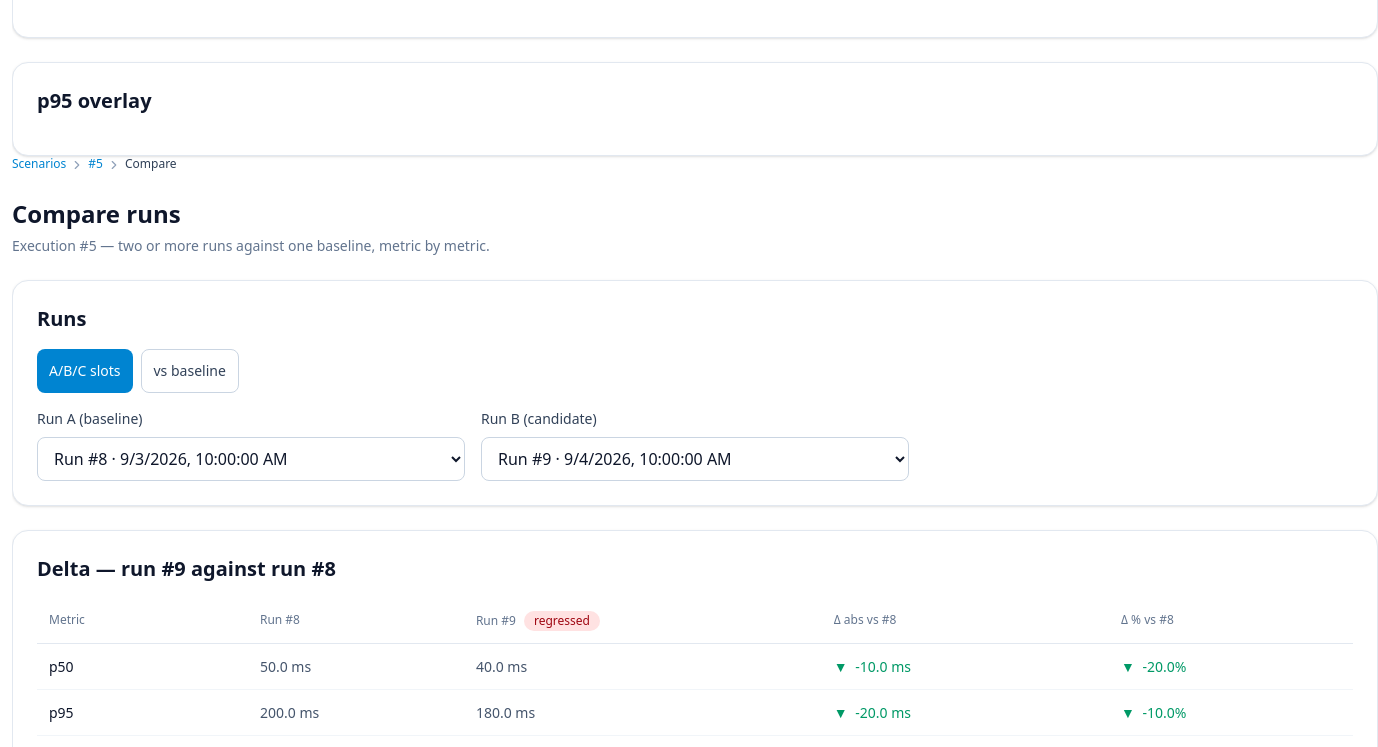
RunCompare vs-baseline mode (phase 75) › toggles to the run list and radios the baseline, carrying the selection over
(page scrolled)
Check: the dropdown with test id "select-run-a" is shown, box [37,437,465,481]
Click the button with test id "mode-vs-baseline" at (190, 371), box [140,349,239,393]
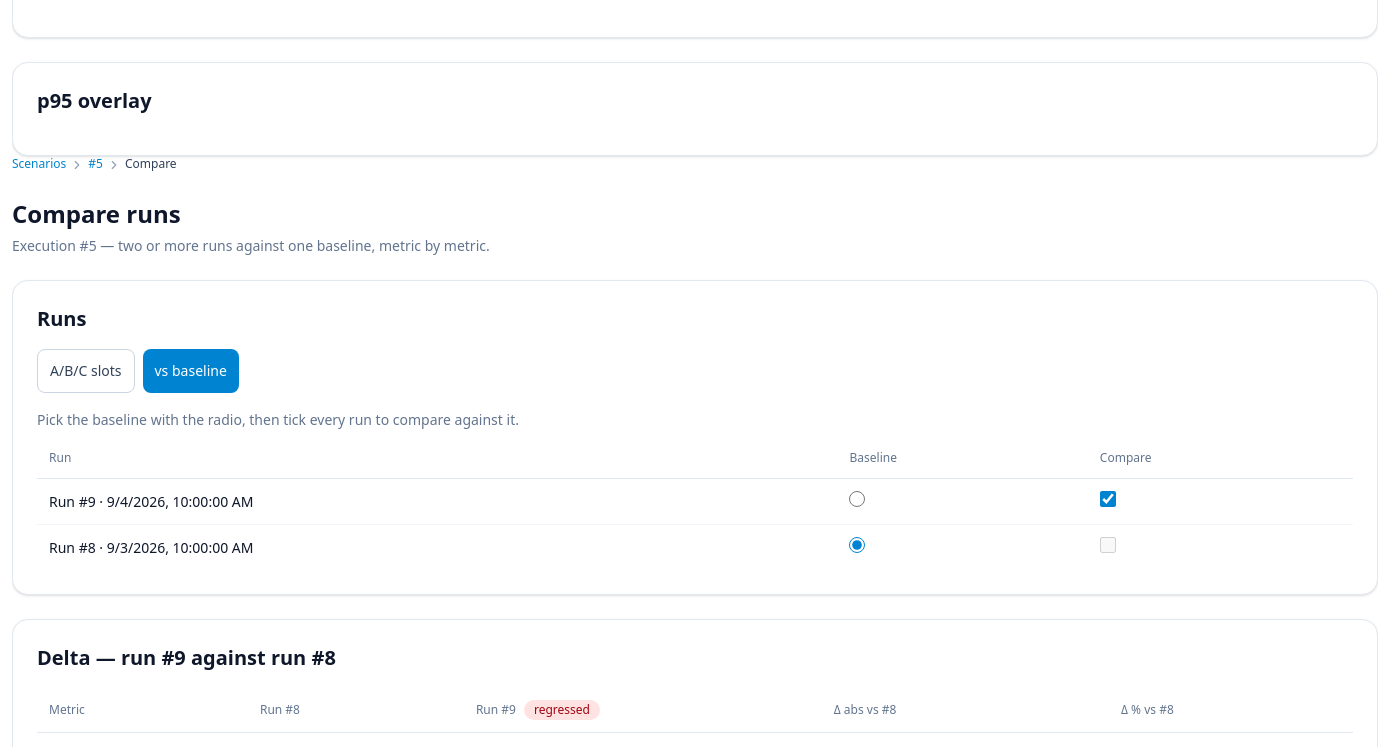
Check: the element with test id "baseline-run-list" is shown, box [37,409,1353,570]
Check: the radio button with test id "baseline-radio-8" is checked, box [850,537,866,553]
Check: the checkbox with test id "compare-check-9" is checked, box [1100,491,1116,507]
Click the radio button with test id "baseline-radio-9" at (858, 499), box [850,491,866,507]
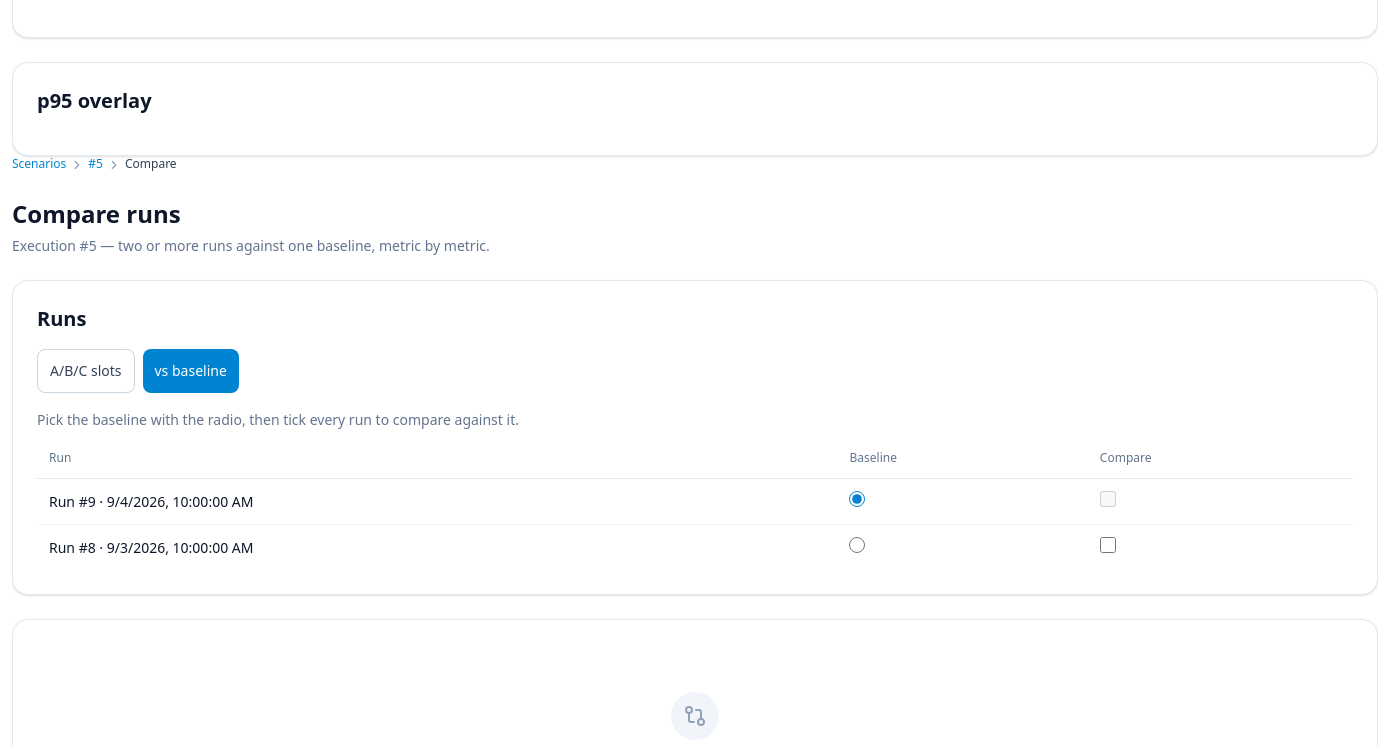
Check: the checkbox with test id "compare-check-9" is disabled, box [1100,491,1116,507]
Check: the checkbox with test id "compare-check-9" is not checked, box [1100,491,1116,507]
Check: the checkbox with test id "compare-check-8" is enabled
Click the checkbox with test id "compare-check-8" at (1108, 545), box [1100,537,1116,553]
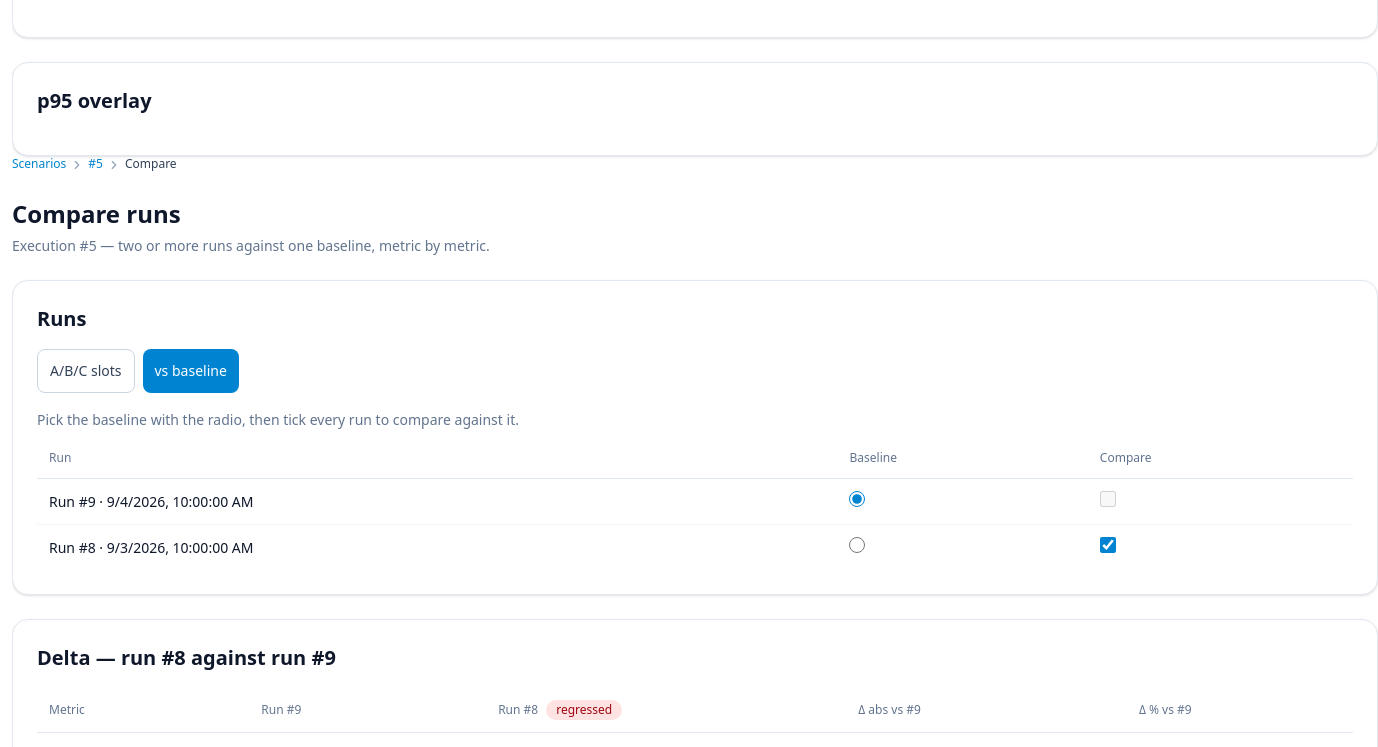
Check: the element showing "Metric Run #9 Run #8 regressed Δ abs vs #9 Δ % vs #9" is shown, box [37,688,1353,733]
